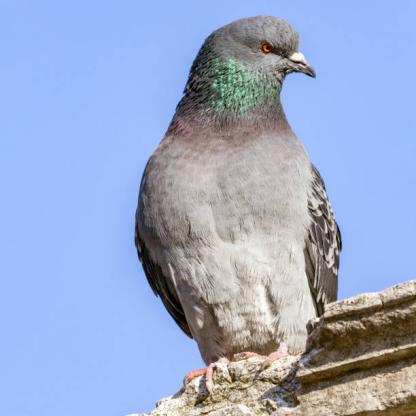Rock Pigeon: (131, 15, 337, 382)
